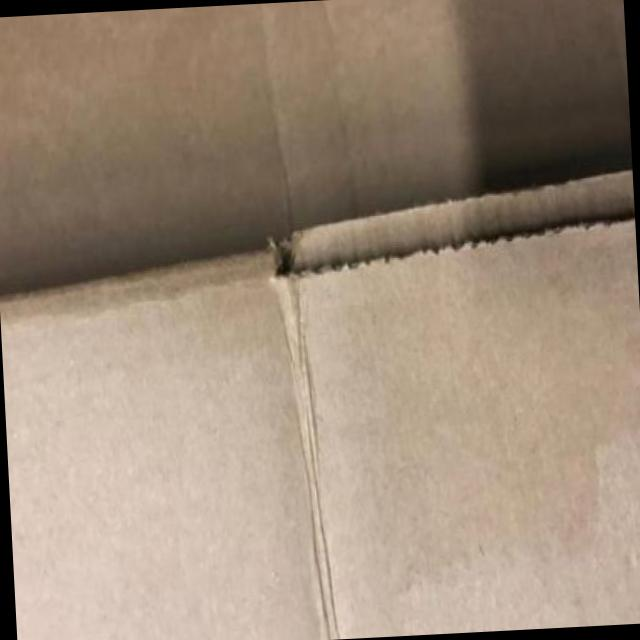cardboard paper: (0, 171, 640, 640)
